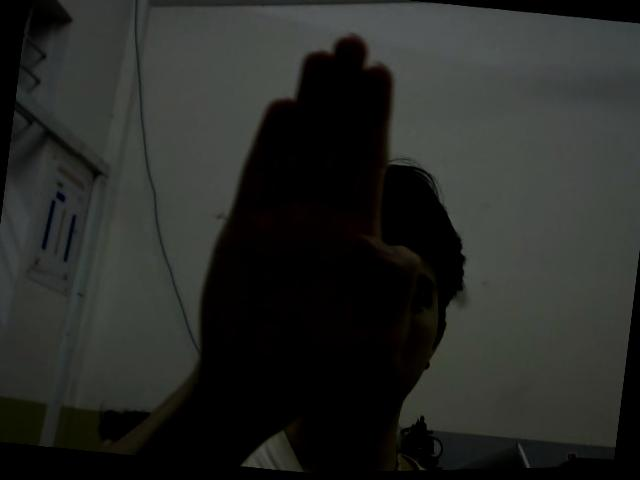B: (184, 16, 448, 415)
